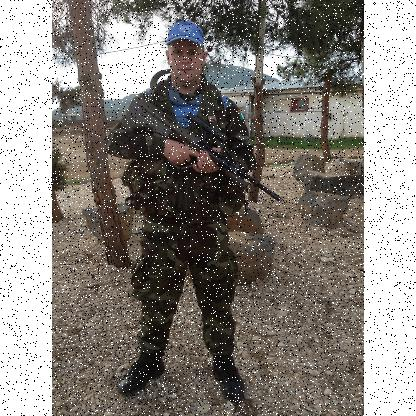gun: (118, 95, 282, 201)
